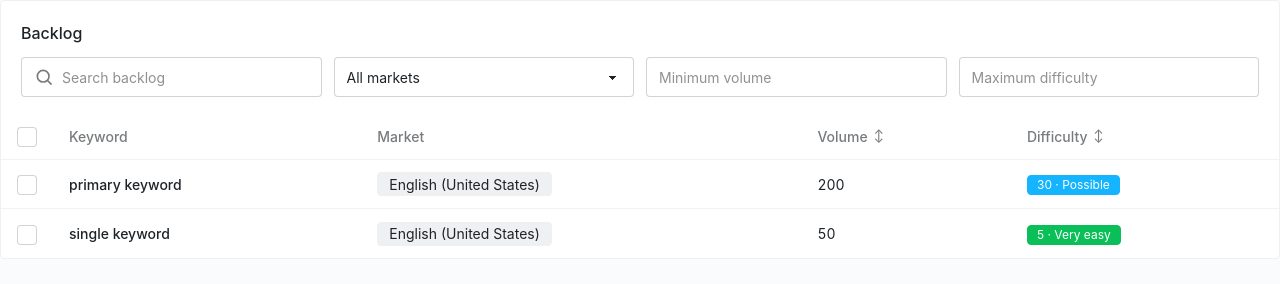
Test: Keyword backlog grouping › selects all visible selectable backlog rows
The width and height of the screenshot is (1280, 284).
Click the checkbox named "Select all visible backlog keywords".
click(27, 137)  # box [17,127,37,147]
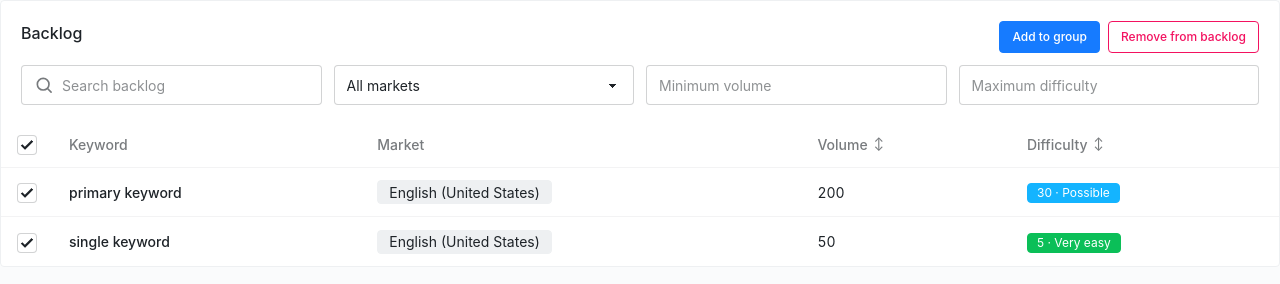
Result: the checkbox named "Select primary keyword" is checked at [17,183,37,203]
Result: the checkbox named "Select single keyword" is checked at [17,232,37,252]
Result: the button "Remove from backlog" is shown at [1108,21,1259,53]
